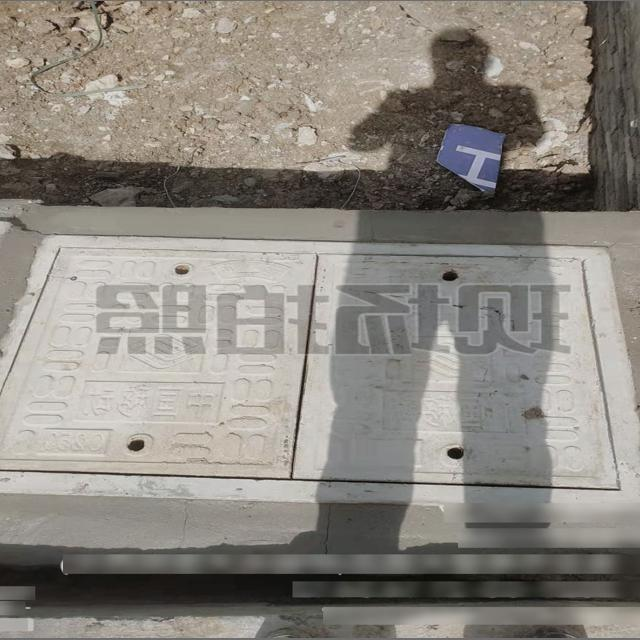good: (0, 230, 640, 514)
